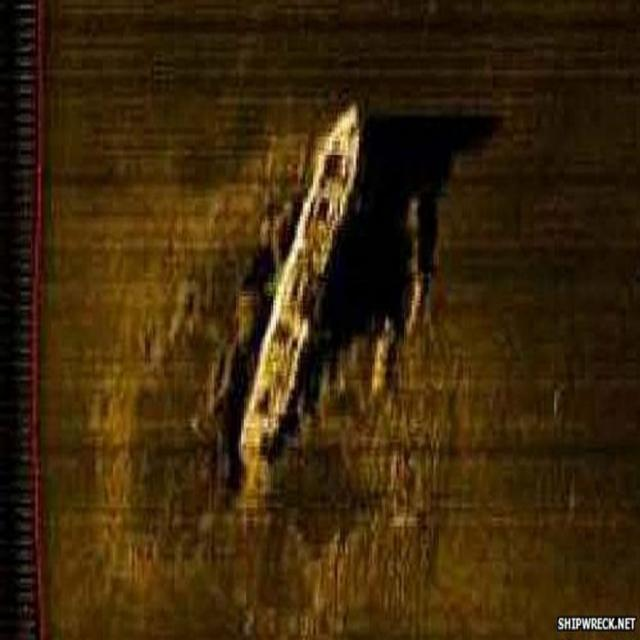ship: (238, 97, 359, 479)
